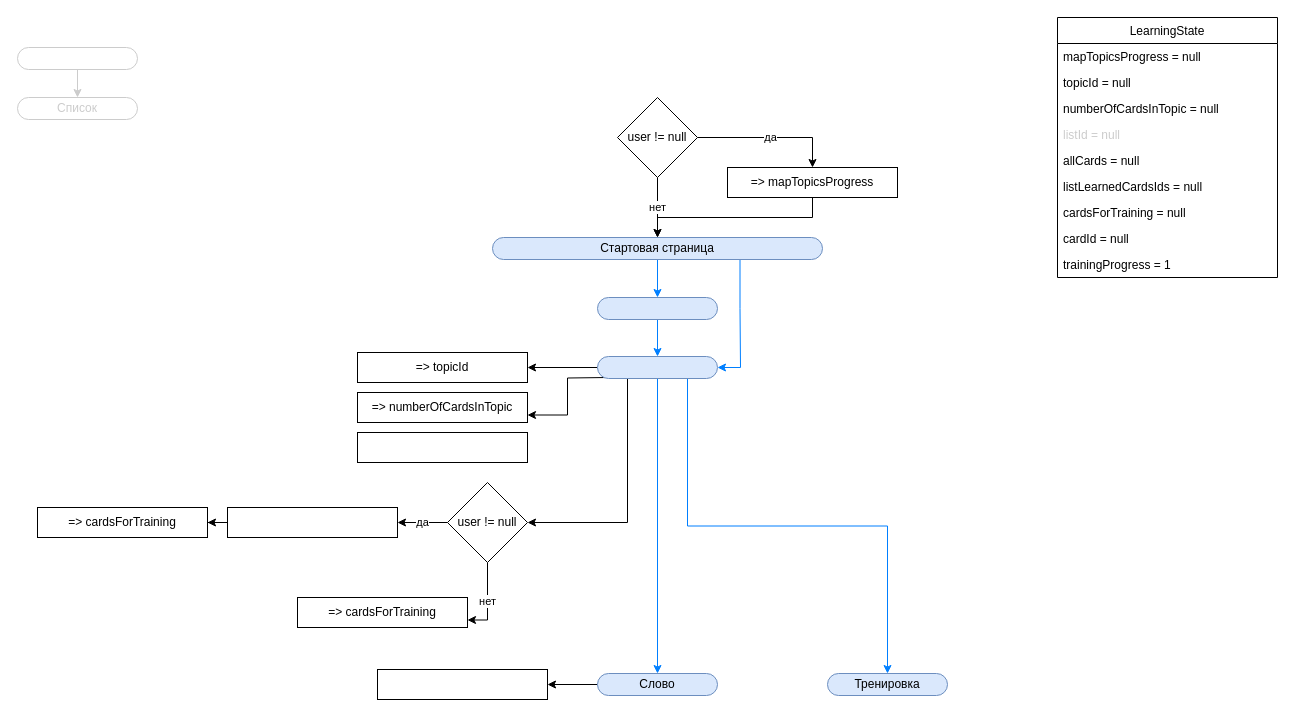
This 1295x717 diagram has some shape labels left out. The shapes that lost their labels are listed below. From the top down, each one's centre as x and y in pixels, then its label:
At (77,58): "Мои списки".
At (657,308): "Категория".
At (657,367): "Тема".
At (442,447): "=> allCards".
At (312,522): "=> listLearnedCardsIds".
At (462,684): "=> card Id".
